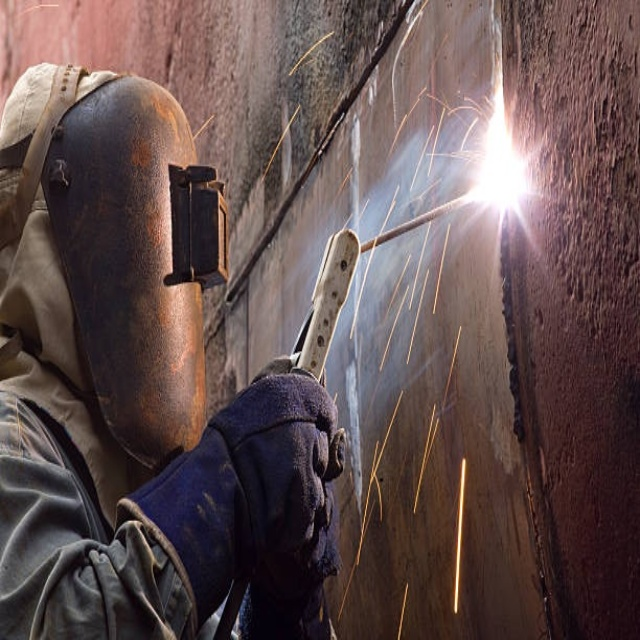Guantes: (108, 353, 356, 629)
